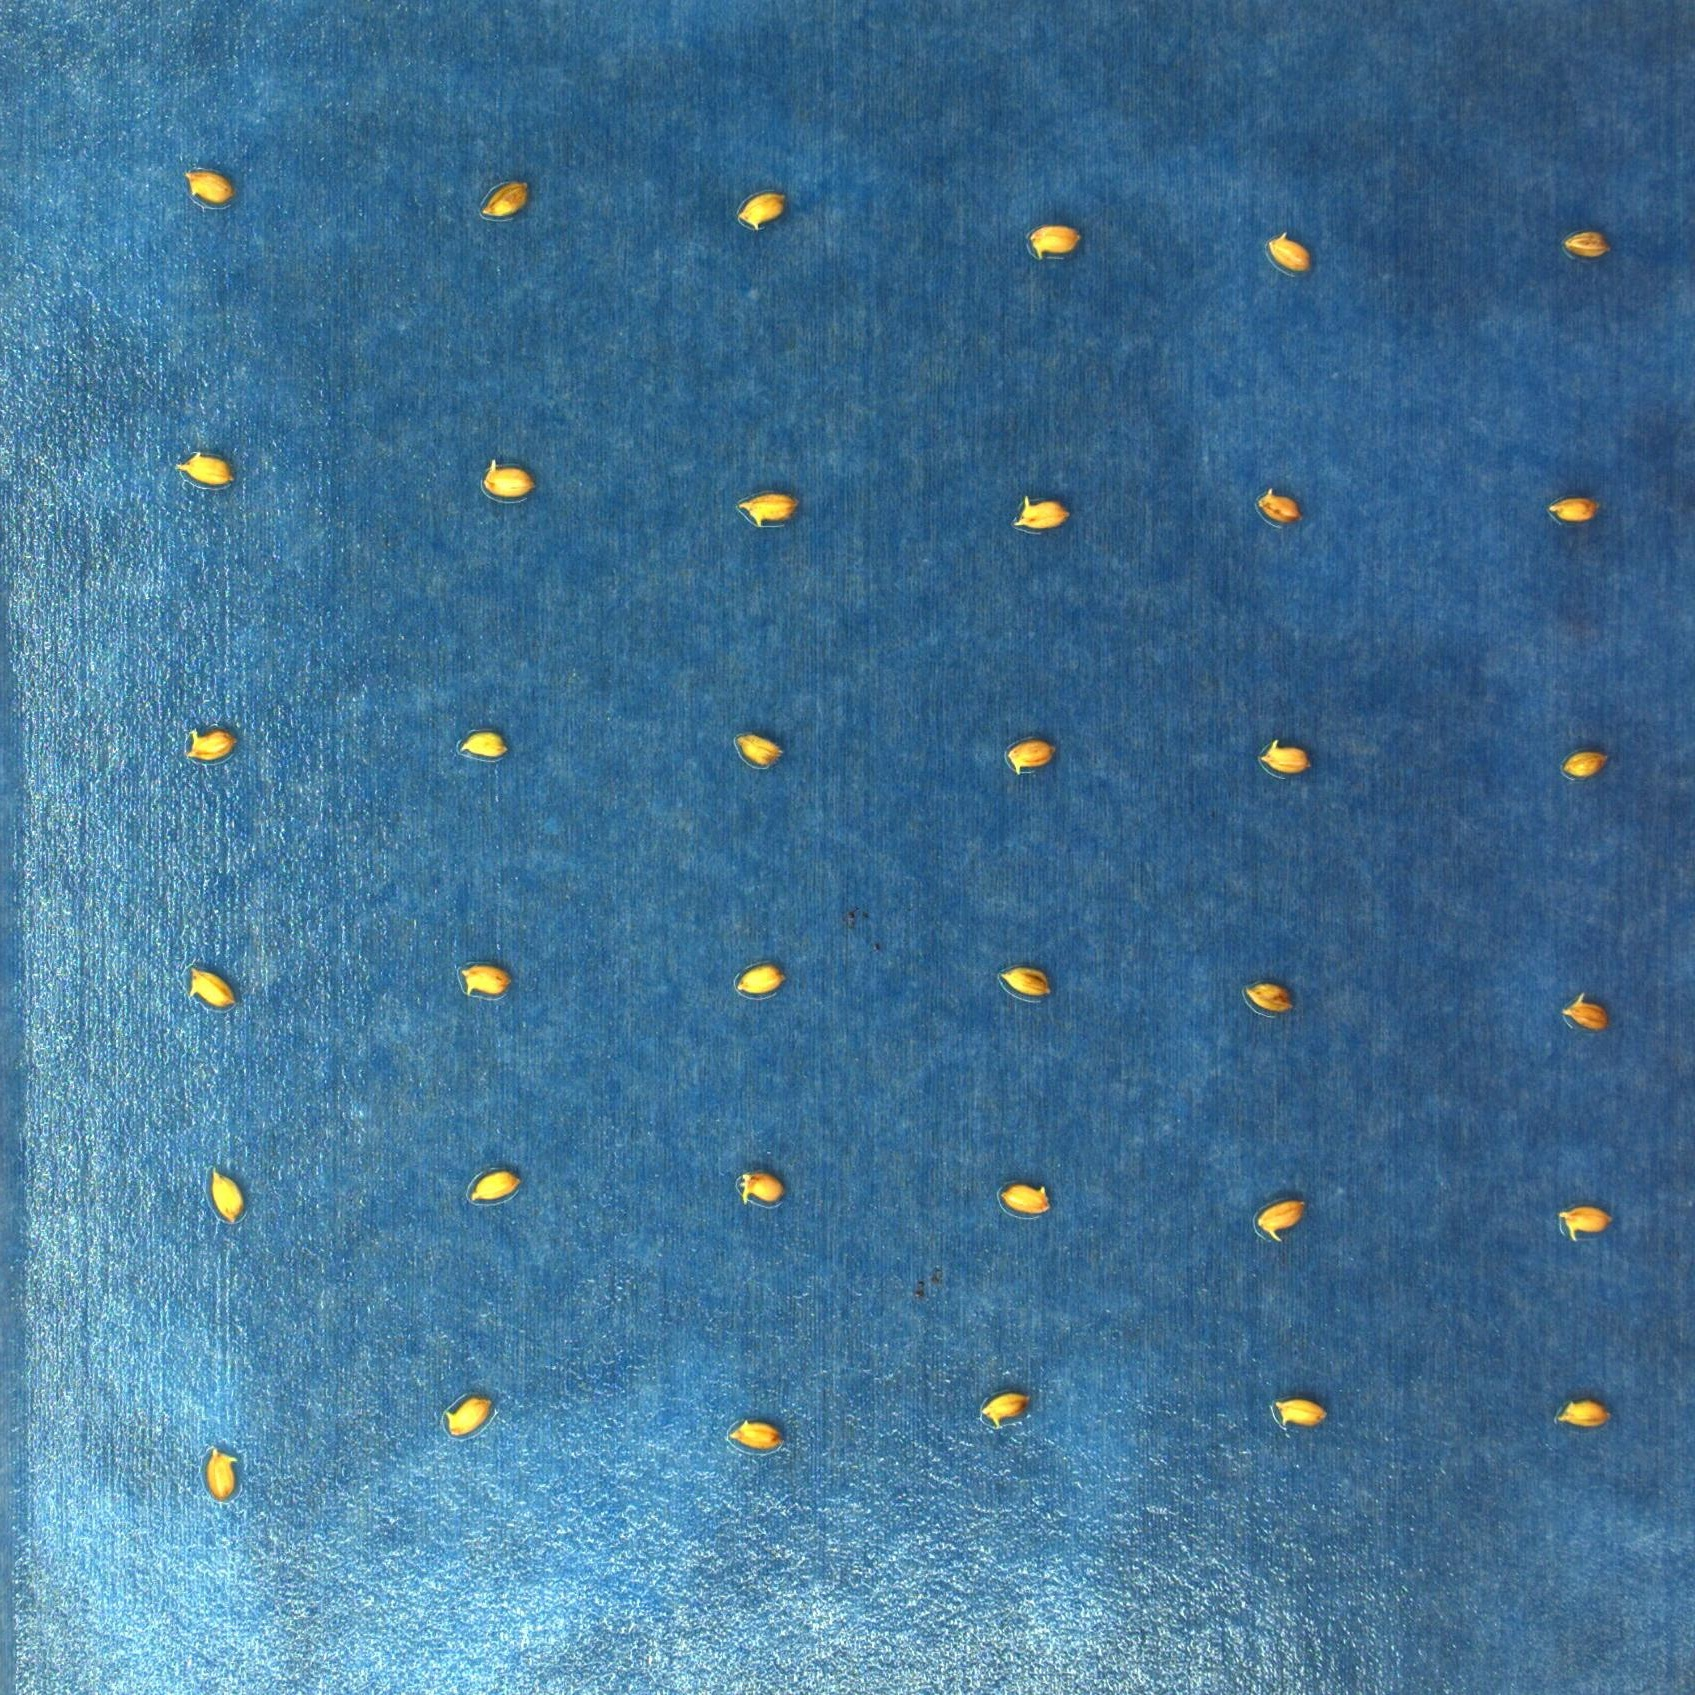not sprout: (1250, 736, 1312, 778), (739, 487, 807, 525), (1253, 1194, 1305, 1242), (439, 1394, 494, 1440), (185, 965, 236, 1010), (1010, 494, 1069, 532), (481, 453, 536, 495), (206, 1166, 244, 1226), (172, 452, 234, 487), (1548, 1399, 1614, 1431), (997, 1180, 1057, 1215), (180, 165, 234, 203), (456, 962, 515, 998), (726, 731, 782, 768), (466, 1167, 522, 1205), (1555, 993, 1608, 1032), (1263, 227, 1309, 272), (1271, 1400, 1330, 1434), (1558, 1205, 1614, 1240), (200, 1445, 239, 1496), (736, 189, 785, 228), (1000, 962, 1051, 1000), (1004, 740, 1059, 775), (728, 1420, 782, 1454), (477, 179, 528, 214), (183, 728, 239, 761), (973, 1399, 1034, 1428), (1544, 494, 1600, 525), (1253, 490, 1305, 523), (1028, 225, 1079, 258), (737, 1170, 784, 1205), (1246, 979, 1295, 1012), (459, 731, 506, 764), (731, 967, 785, 995), (1563, 747, 1611, 778), (1566, 228, 1607, 255)
